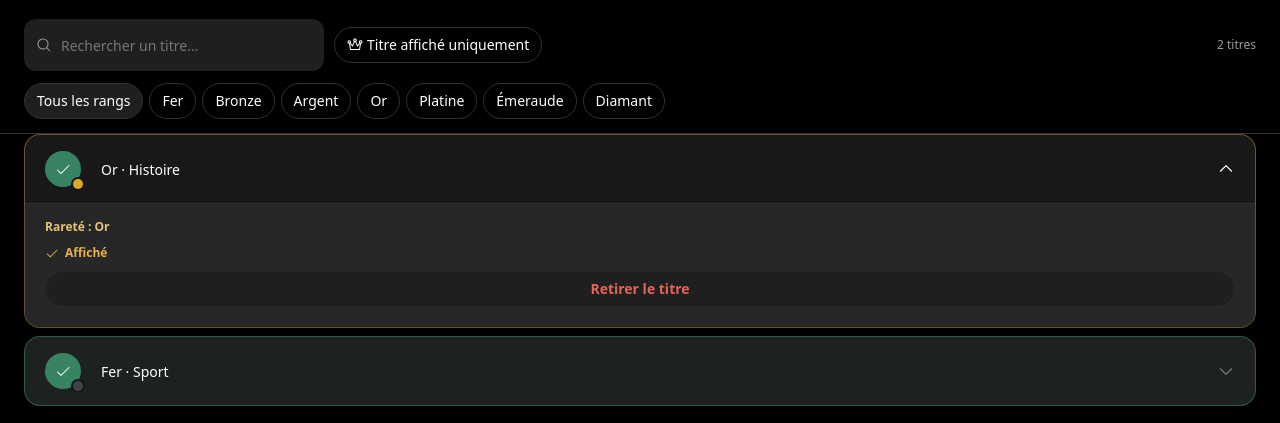
Test: ProfileTitlesSection › recherche un titre par le nom de son sujet
This screenshot has width=1280, height=423.
Type "Sport" into the field with placeholder "Rechercher un titre…" at [174, 45], box [24,19,324,71]
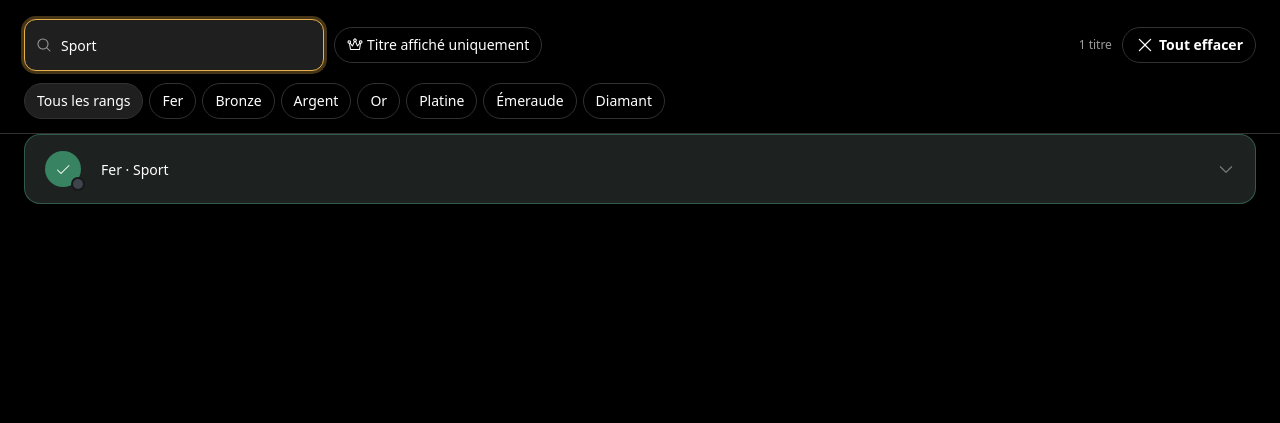
Expected: the button "Fer · Sport" is shown, [25,135,1255,203]
Expected: the button "Or · Histoire" is gone
